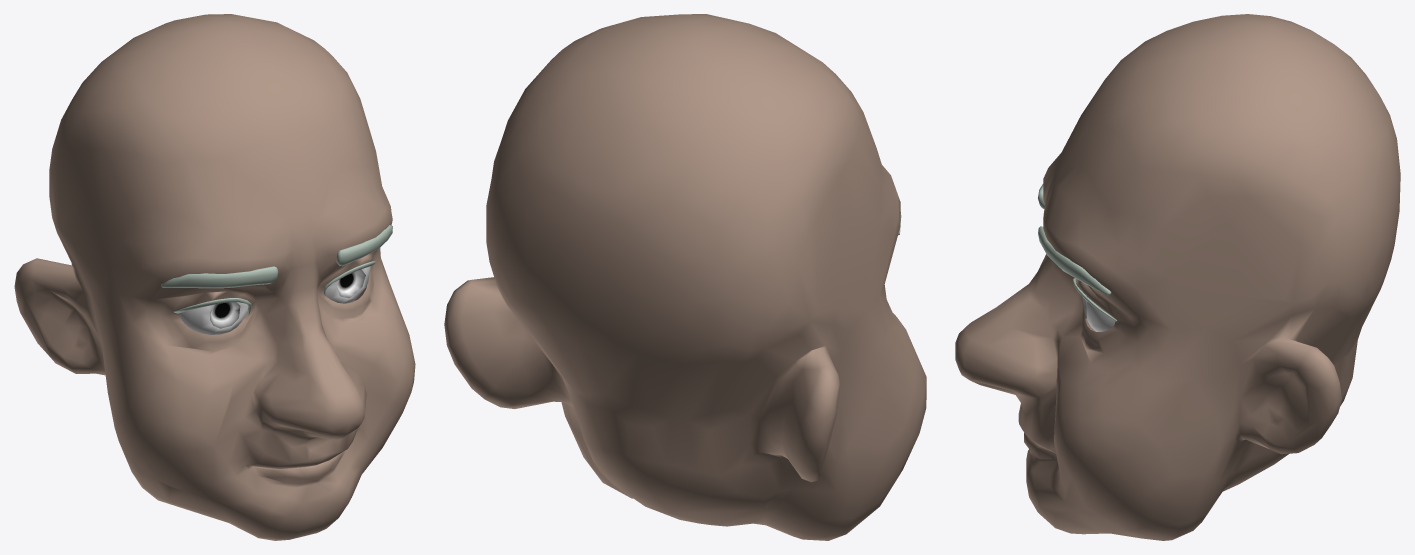
The picture shows the model from 3 angles, left to right: view 1: azimuth 30°, elevation 25°; view 2: azimuth 150°, elevation 25°; view 3: azimuth 270°, elevation 25°; orthographic projection. The views are drawn at different scales.
Visible parts, largest first — view 1: skin.001, eyes.001, brows.001, lashes.001; view 2: skin.001; view 3: skin.001, brows.001, eyes.001.
Boxes of the visible parts, bbox=[...] form: skin.001: bbox=[14, 14, 415, 540]; eyes.001: bbox=[179, 266, 370, 334]; brows.001: bbox=[161, 225, 392, 288]; lashes.001: bbox=[173, 261, 375, 314]; skin.001: bbox=[444, 14, 926, 540]; skin.001: bbox=[955, 14, 1400, 540]; brows.001: bbox=[1038, 184, 1111, 295]; eyes.001: bbox=[1081, 290, 1114, 331].
Bounding box in the file's own units: 1.5 × 2 × 1.66.
Materials: 9 (1 with a texture image).
